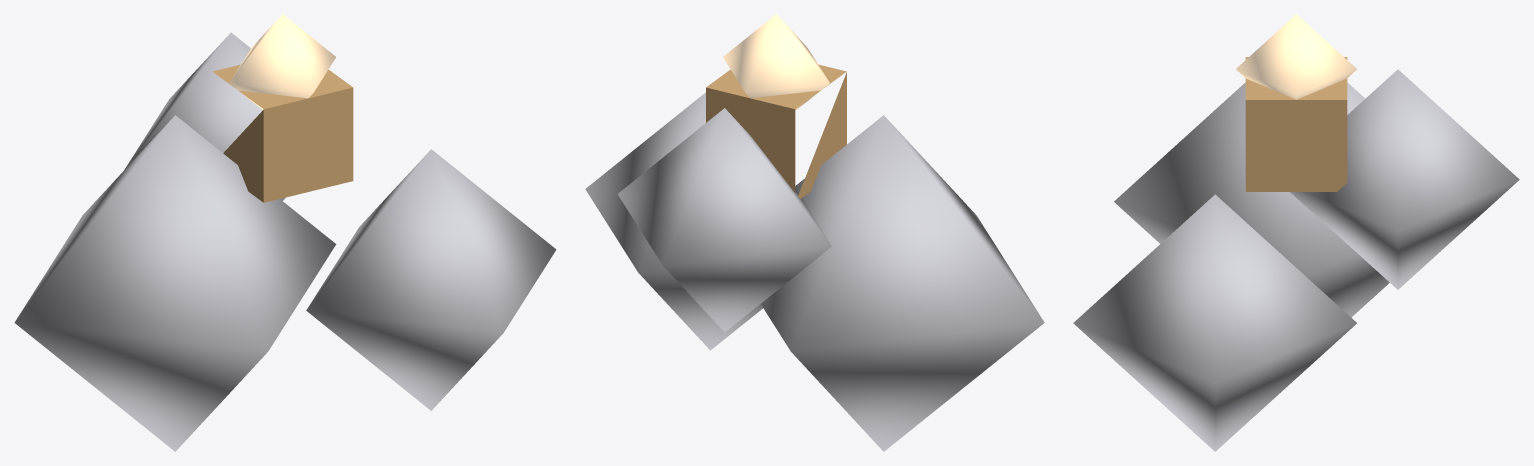
Rendered from residuos_carbon.glb.
The picture shows the model from 3 angles, left to right: view 1: azimuth 30°, elevation 25°; view 2: azimuth 150°, elevation 25°; view 3: azimuth 270°, elevation 25°; orthographic projection.
Parts seen in each view (by area): view 1: Base, Accent, Glow; view 2: Base, Accent, Glow; view 3: Base, Accent, Glow.
Part boxes in pixels (x1,y1,x2,y2): Base: (14,32,556,451); Accent: (212,64,353,202); Glow: (229,14,335,109); Base: (585,92,1044,451); Accent: (706,64,846,198); Glow: (723,14,829,110); Base: (1073,69,1519,451); Accent: (1245,57,1347,191); Glow: (1236,14,1356,99).
Bounding box in the file's own units: 0.28 × 0.22 × 0.22.
